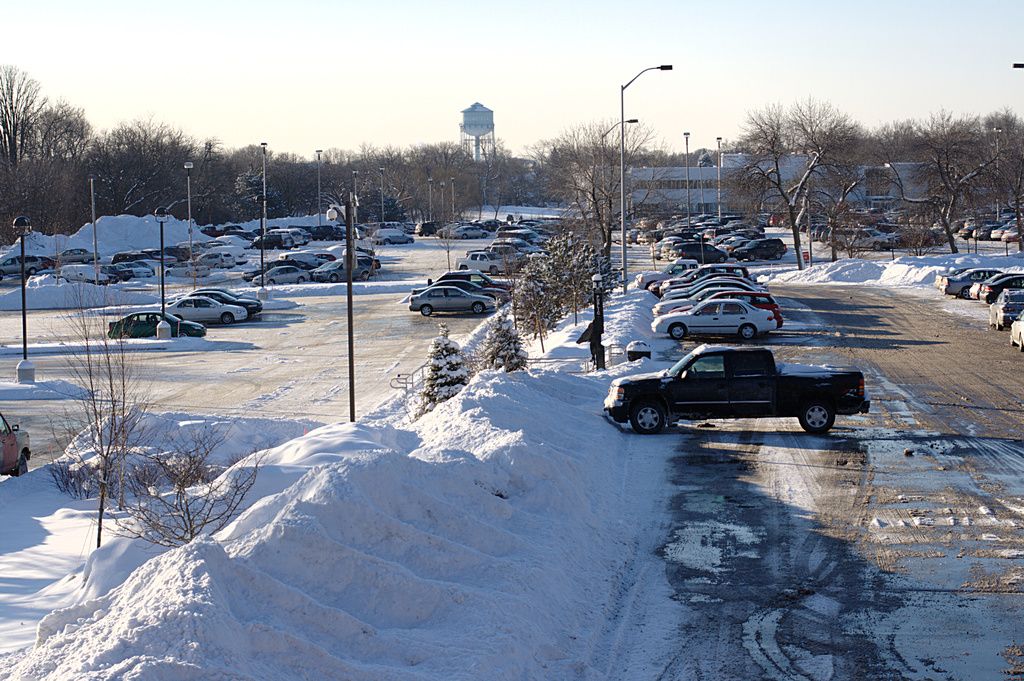Car: (610, 207, 1023, 347), (0, 213, 560, 287), (604, 349, 872, 434), (407, 283, 499, 316), (168, 287, 259, 319), (163, 291, 247, 324), (105, 310, 207, 337), (412, 278, 509, 306), (413, 266, 510, 290), (0, 413, 32, 472), (176, 288, 265, 304)
